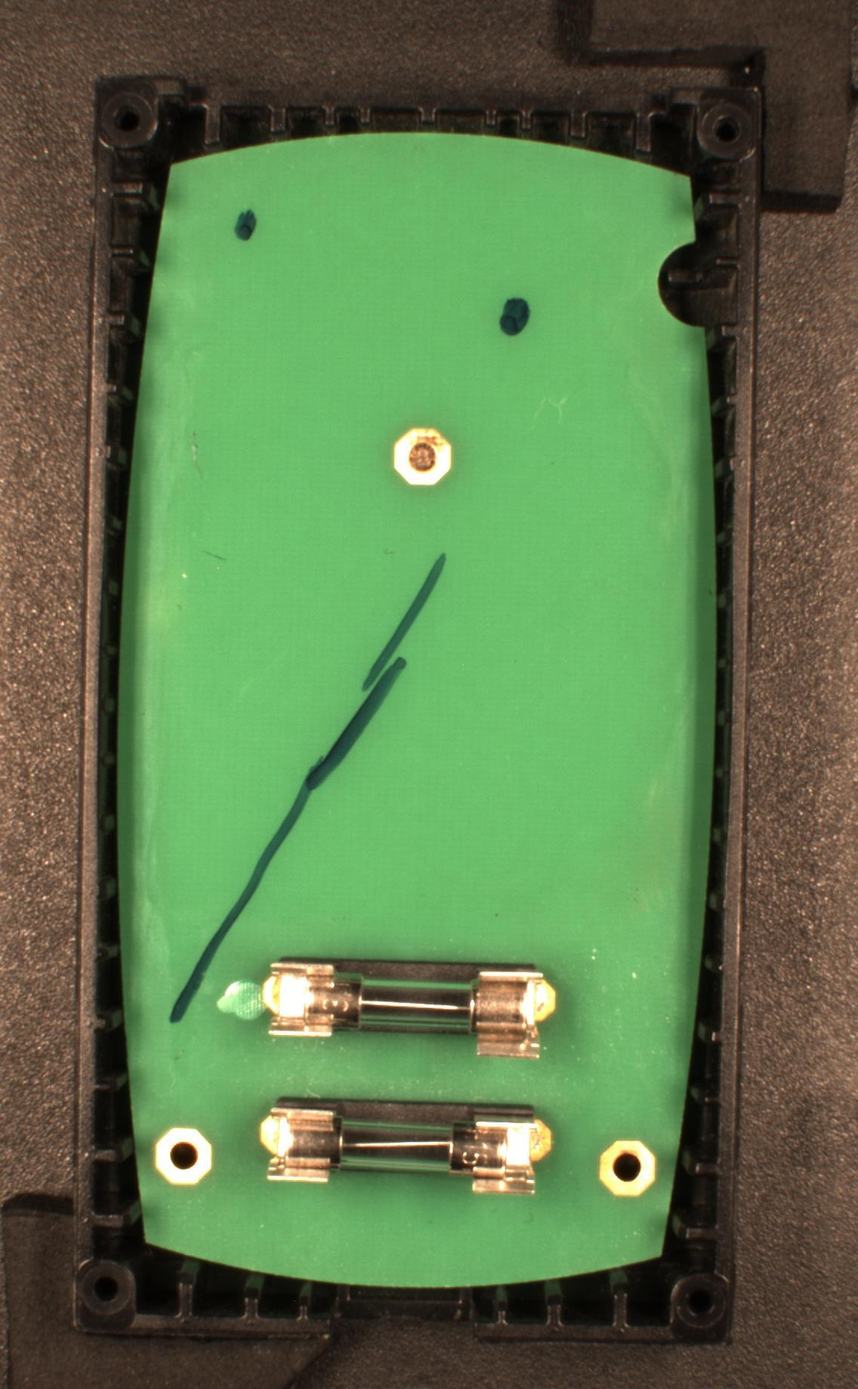Linijsko Ostecene: (166, 548, 450, 1026)
Tockasto Ostecenje: (494, 295, 532, 336), (232, 209, 260, 244)
